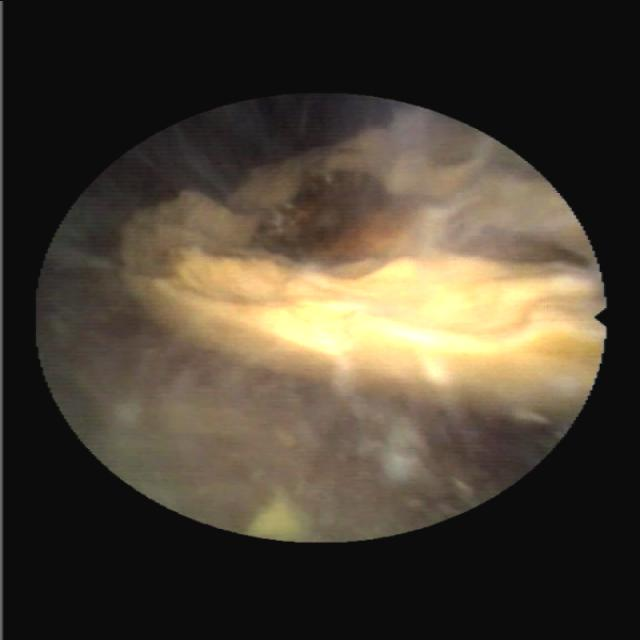stone: (115, 109, 599, 420), (246, 489, 307, 537)
